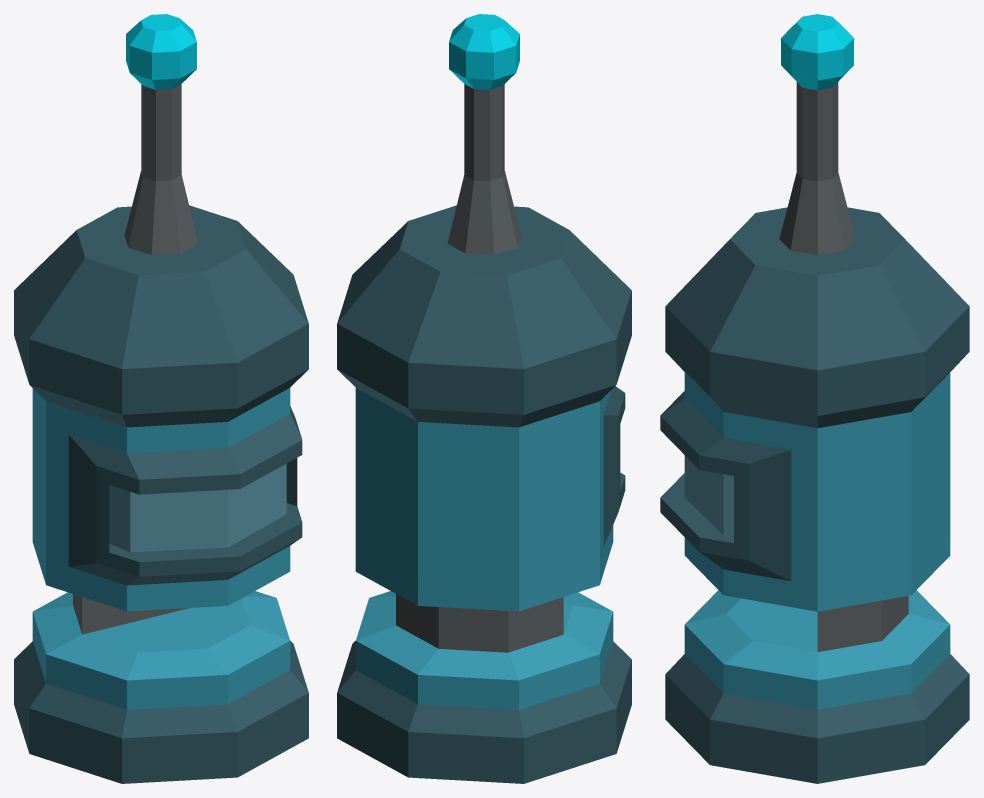
File: GeneradorDeRobots.fbx
3 views of the same model, side by side, from view 1: azimuth 30°, elevation 25°; view 2: azimuth 150°, elevation 25°; view 3: azimuth 270°, elevation 25° (orthographic).
Parts seen in each view (by area): view 1: GeneradorDeRobots; view 2: GeneradorDeRobots; view 3: GeneradorDeRobots.
Boxes of the visible parts, bbox=[...] form: GeneradorDeRobots: bbox=[14, 14, 308, 783]; GeneradorDeRobots: bbox=[337, 14, 631, 783]; GeneradorDeRobots: bbox=[660, 14, 969, 783].
Size of the model in its own units: 111 by 280 by 113.
Materials: 1 (1 with a texture image).
